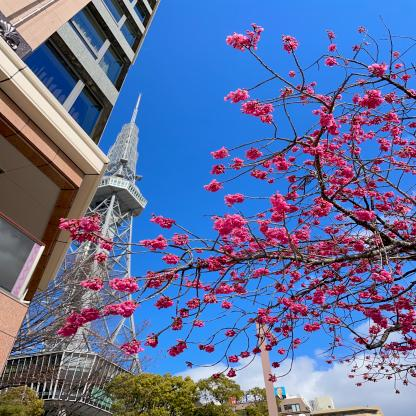KanhiSakura: (55, 23, 416, 395)
